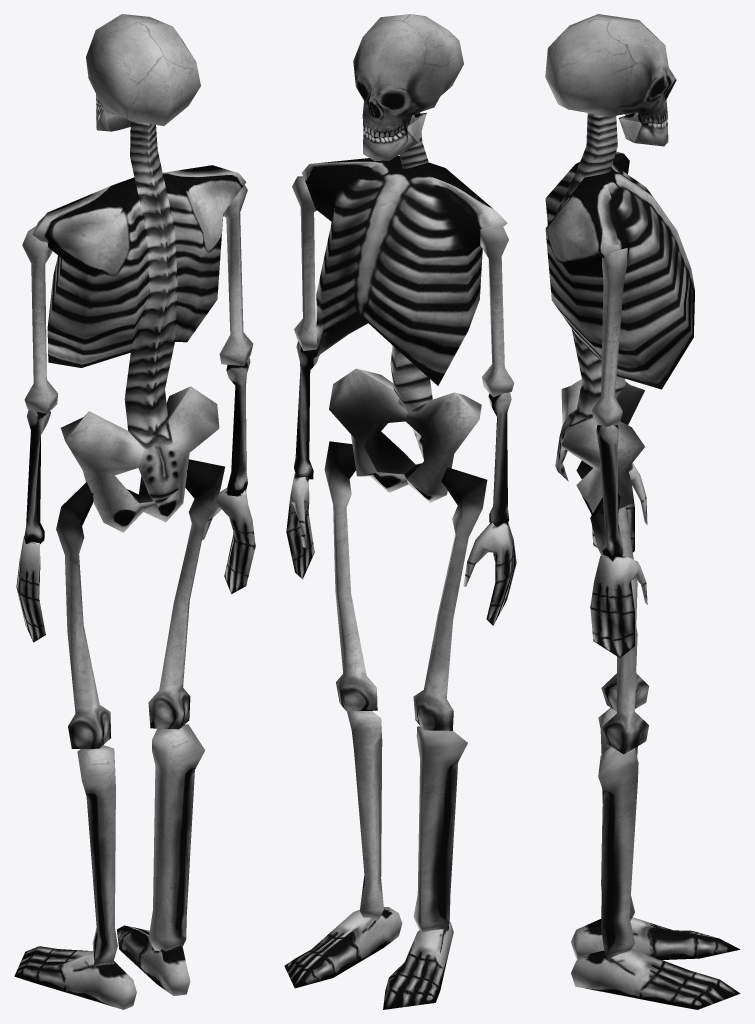
The model's file is Skellington.FBX.
3 renders of one model, left to right at view 1: azimuth 30°, elevation 25°; view 2: azimuth 150°, elevation 25°; view 3: azimuth 270°, elevation 25°, orthographic. The views are drawn at different scales.
Visible parts, largest first — view 1: Object004, Object001, Object015, Object006, Object014, Object013, Object012, Object011, Object010, Object005, Object007, Object019 (+7 smaller); view 2: Object004, Object001, Object012, Object010, Object013, Object014, Object015, Object006, Object016, Object011, Object007, Object019 (+7 smaller); view 3: Object004, Object001, Object015, Object016, Object017, Object010, Object011, Object019, Object014, Object018, Object003, Object005 (+5 smaller).
Boxes of the visible parts, x1=… form: Object004: x1=32, y1=165, x2=246, y2=367; Object001: x1=86, y1=14, x2=200, y2=126; Object015: x1=148, y1=724, x2=205, y2=951; Object006: x1=60, y1=411, x2=165, y2=532; Object014: x1=148, y1=459, x2=224, y2=729; Object013: x1=56, y1=482, x2=111, y2=748; Object012: x1=77, y1=745, x2=117, y2=969; Object011: x1=14, y1=946, x2=136, y2=1009; Object010: x1=139, y1=386, x2=219, y2=521; Object005: x1=124, y1=342, x2=174, y2=448; Object007: x1=22, y1=226, x2=57, y2=413; Object019: x1=219, y1=185, x2=253, y2=365; Object004: x1=302, y1=155, x2=507, y2=385; Object001: x1=353, y1=14, x2=463, y2=137; Object012: x1=413, y1=726, x2=467, y2=933; Object010: x1=329, y1=368, x2=423, y2=492; Object013: x1=413, y1=467, x2=487, y2=730; Object014: x1=324, y1=441, x2=377, y2=711; Object015: x1=347, y1=711, x2=383, y2=920; Object006: x1=404, y1=392, x2=481, y2=502; Object016: x1=284, y1=907, x2=402, y2=988; Object011: x1=383, y1=922, x2=453, y2=1009; Object007: x1=480, y1=224, x2=514, y2=397; Object019: x1=292, y1=176, x2=316, y2=350; Object004: x1=545, y1=151, x2=694, y2=389; Object001: x1=545, y1=14, x2=676, y2=123; Object015: x1=598, y1=747, x2=638, y2=963; Object016: x1=571, y1=949, x2=740, y2=1009; Object017: x1=590, y1=555, x2=647, y2=657; Object010: x1=555, y1=418, x2=644, y2=514; Object011: x1=571, y1=917, x2=739, y2=959; Object019: x1=591, y1=248, x2=627, y2=426; Object014: x1=590, y1=493, x2=648, y2=754; Object018: x1=596, y1=425, x2=623, y2=561; Object003: x1=576, y1=113, x2=617, y2=177; Object005: x1=568, y1=329, x2=625, y2=428.
Bounding box in the file's own units: 39.51 × 160 × 29.74.
